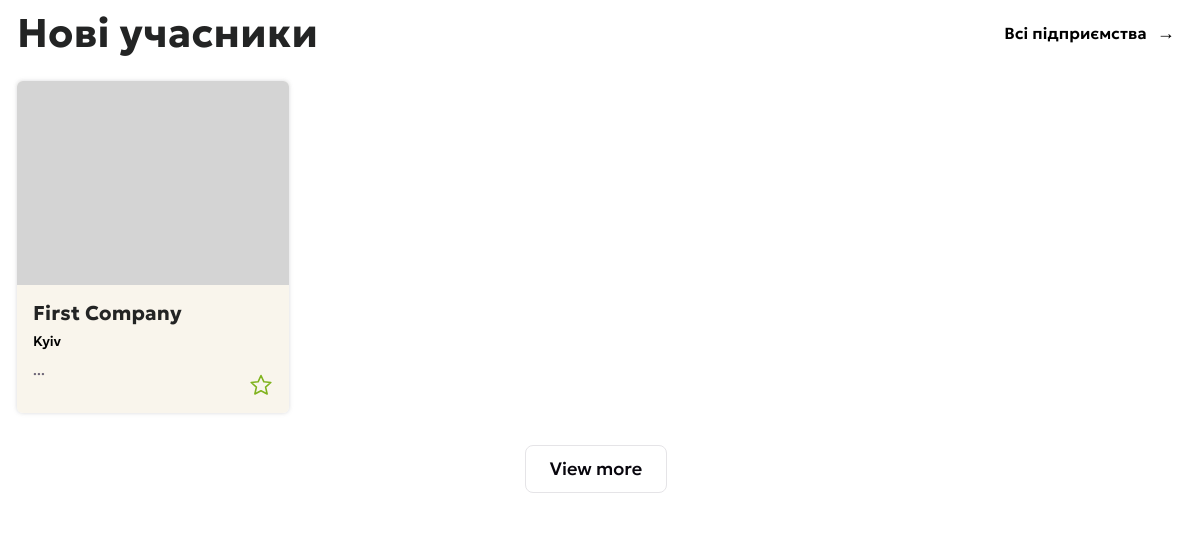
Test: StartupsGrid › shows a pagination-specific error when loading the next page fails
The image size is (1189, 556).
Expected: the heading "First Company" is shown, [33, 300, 182, 326]
Click the button "View more": (596,469) [525, 445, 667, 493]
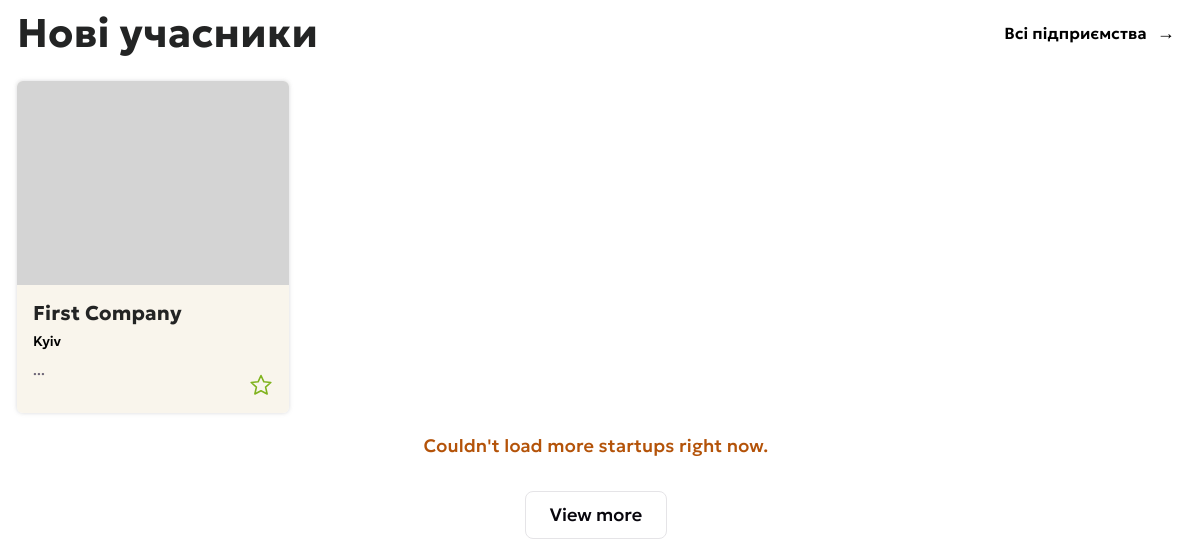
Expected: the heading "First Company" is shown, [33, 300, 182, 326]
Expected: the text "Couldn't load more startups right now." is shown, [424, 434, 768, 457]
